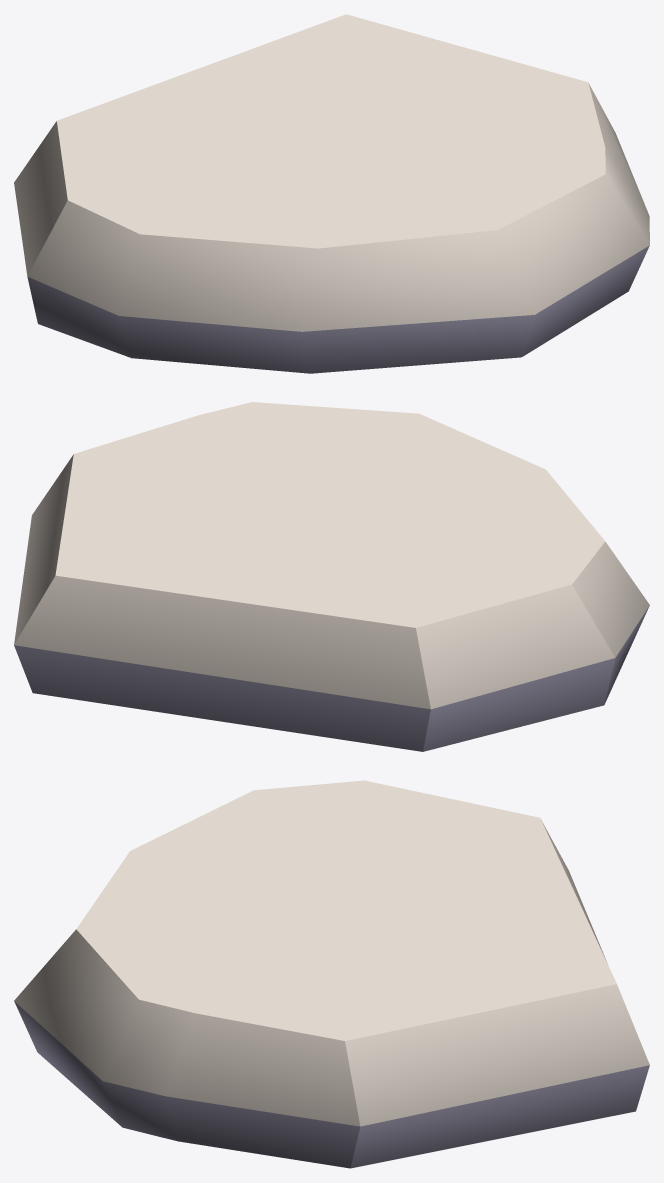
The model's file is roca3.fbx.
3 renders of one model, top to bottom at view 1: azimuth 30°, elevation 25°; view 2: azimuth 150°, elevation 25°; view 3: azimuth 270°, elevation 25°, orthographic. The views are drawn at different scales.
Visible parts, largest first — view 1: roca3; view 2: roca3; view 3: roca3.
Part boxes in pixels (x1,y1,x2,y2): roca3: [14, 14, 649, 373]; roca3: [14, 402, 649, 751]; roca3: [14, 780, 649, 1168].
Size of the model in its own units: 89.93 by 16.82 by 80.63.
